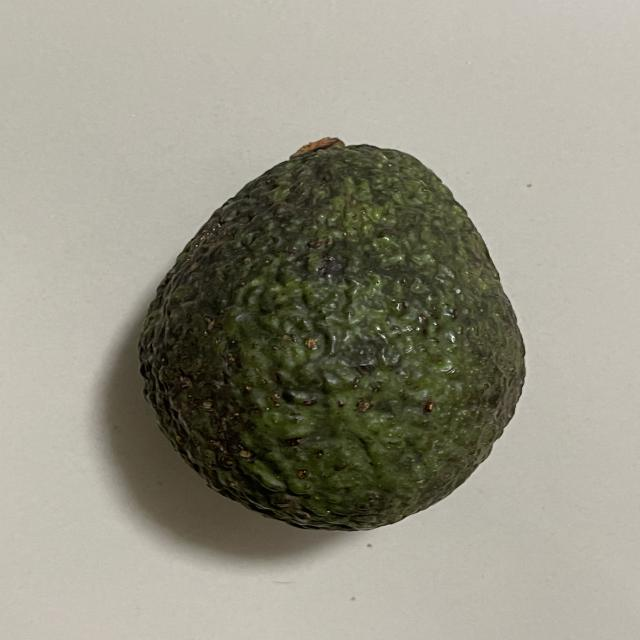Level1: (123, 124, 539, 538)
